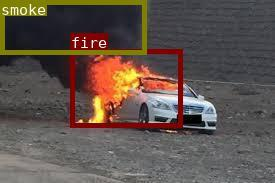fire: (70, 49, 181, 127)
smoke: (0, 0, 145, 54)
